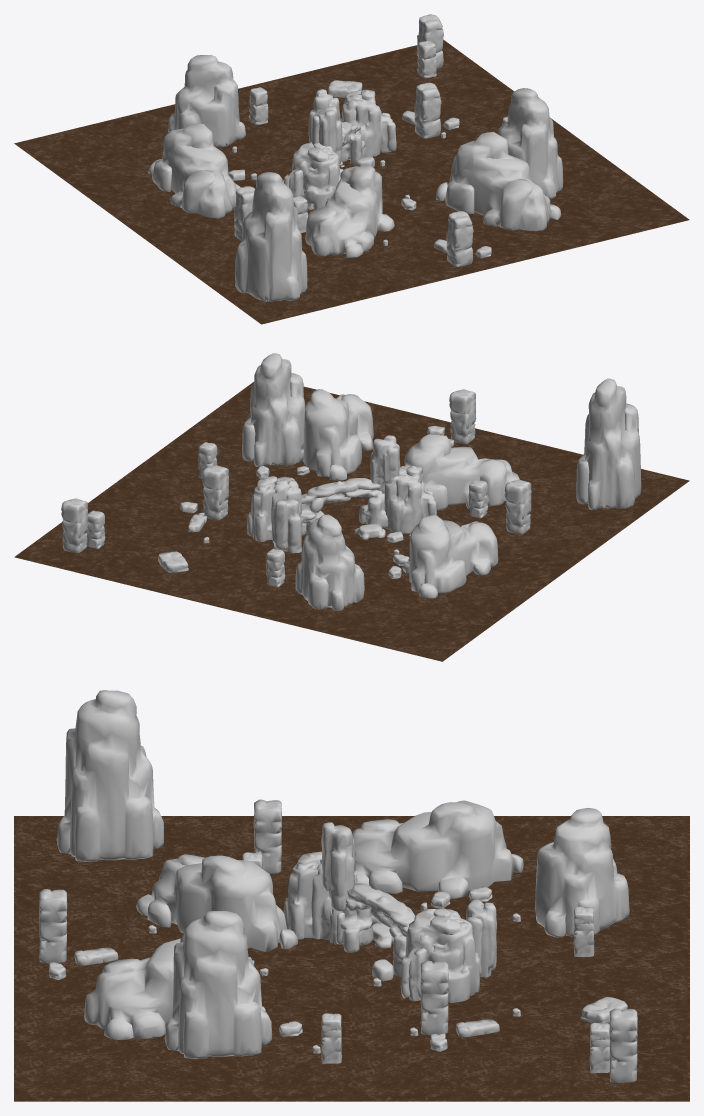
Rendered from desert.fbx.
3 renders of one model, top to bottom at view 1: azimuth 30°, elevation 25°; view 2: azimuth 150°, elevation 25°; view 3: azimuth 270°, elevation 25°, orthographic. The views are drawn at different scales.
Visible parts, largest first — view 1: Plane, cliff2.002, cliff3.001, cliff2, cliff2.001, cliff3, cliff3.002, cliff1_2, cliff1, rock5_1.004, rock5_1.002, rockpilar_2 (+6 smaller); view 2: Plane, cliff3.001, cliff3.002, cliff2, cliff2.002, cliff2.001, cliff3, cliff1_2, rockarch, cliff1, rockpilar, rock5_1.001 (+9 smaller); view 3: Plane, cliff3.001, cliff2, cliff3.002, cliff2.001, cliff3, cliff2.002, cliff1, cliff1_2, rockarch, rockpilar_2, rock5_1.003 (+10 smaller).
Boxes of the visible parts, bbox=[...] form: Plane: bbox=[14, 39, 689, 324]; cliff2.002: bbox=[436, 132, 561, 231]; cliff3.001: bbox=[235, 172, 307, 301]; cliff2: bbox=[148, 123, 240, 218]; cliff2.001: bbox=[305, 165, 394, 257]; cliff3: bbox=[168, 55, 245, 147]; cliff3.002: bbox=[498, 88, 563, 199]; cliff1_2: bbox=[284, 142, 340, 210]; cliff1: bbox=[339, 89, 396, 156]; rock5_1.004: bbox=[446, 211, 473, 266]; rock5_1.002: bbox=[414, 82, 441, 138]; rockpilar_2: bbox=[311, 106, 342, 163]; Plane: bbox=[14, 381, 689, 661]; cliff3.001: bbox=[576, 378, 641, 510]; cliff3.002: bbox=[242, 353, 305, 467]; cliff2: bbox=[402, 514, 498, 598]; cliff2.002: bbox=[300, 389, 373, 480]; cliff2.001: bbox=[404, 434, 519, 510]; cliff3: bbox=[295, 514, 364, 610]; cliff1_2: bbox=[384, 465, 436, 533]; rockarch: bbox=[300, 478, 388, 535]; cliff1: bbox=[247, 476, 302, 542]; rockpilar: bbox=[271, 498, 301, 553]; rock5_1.001: bbox=[504, 479, 531, 534]; Plane: bbox=[14, 816, 689, 1101]; cliff3.001: bbox=[56, 690, 163, 861]; cliff2: bbox=[352, 800, 523, 898]; cliff3.002: bbox=[164, 911, 271, 1058]; cliff2.001: bbox=[136, 854, 297, 951]; cliff3: bbox=[535, 808, 629, 937]; cliff2.002: bbox=[84, 932, 184, 1039]; cliff1: bbox=[400, 908, 479, 1002]; cliff1_2: bbox=[284, 851, 357, 944]; rockarch: bbox=[336, 883, 415, 977]; rockpilar_2: bbox=[321, 822, 354, 911]; rock5_1.003: bbox=[609, 1008, 637, 1082].
Size of the model in its own units: 30000 by 8240 by 30000.
